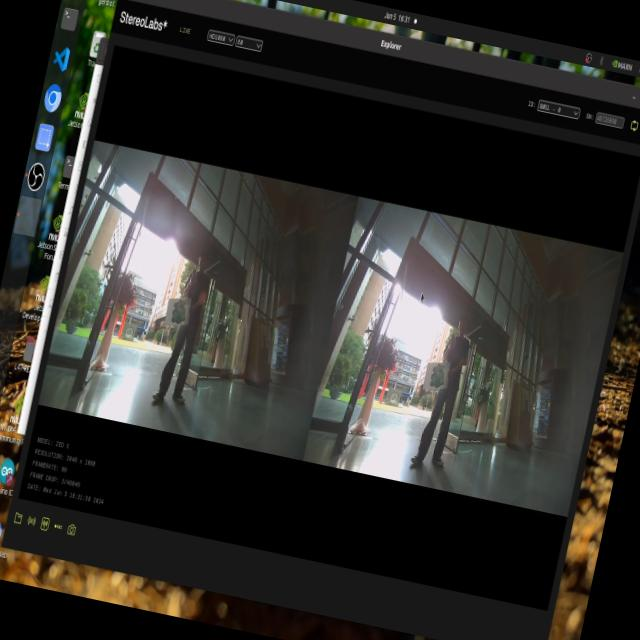green: (425, 357, 456, 395), (170, 294, 189, 328)
